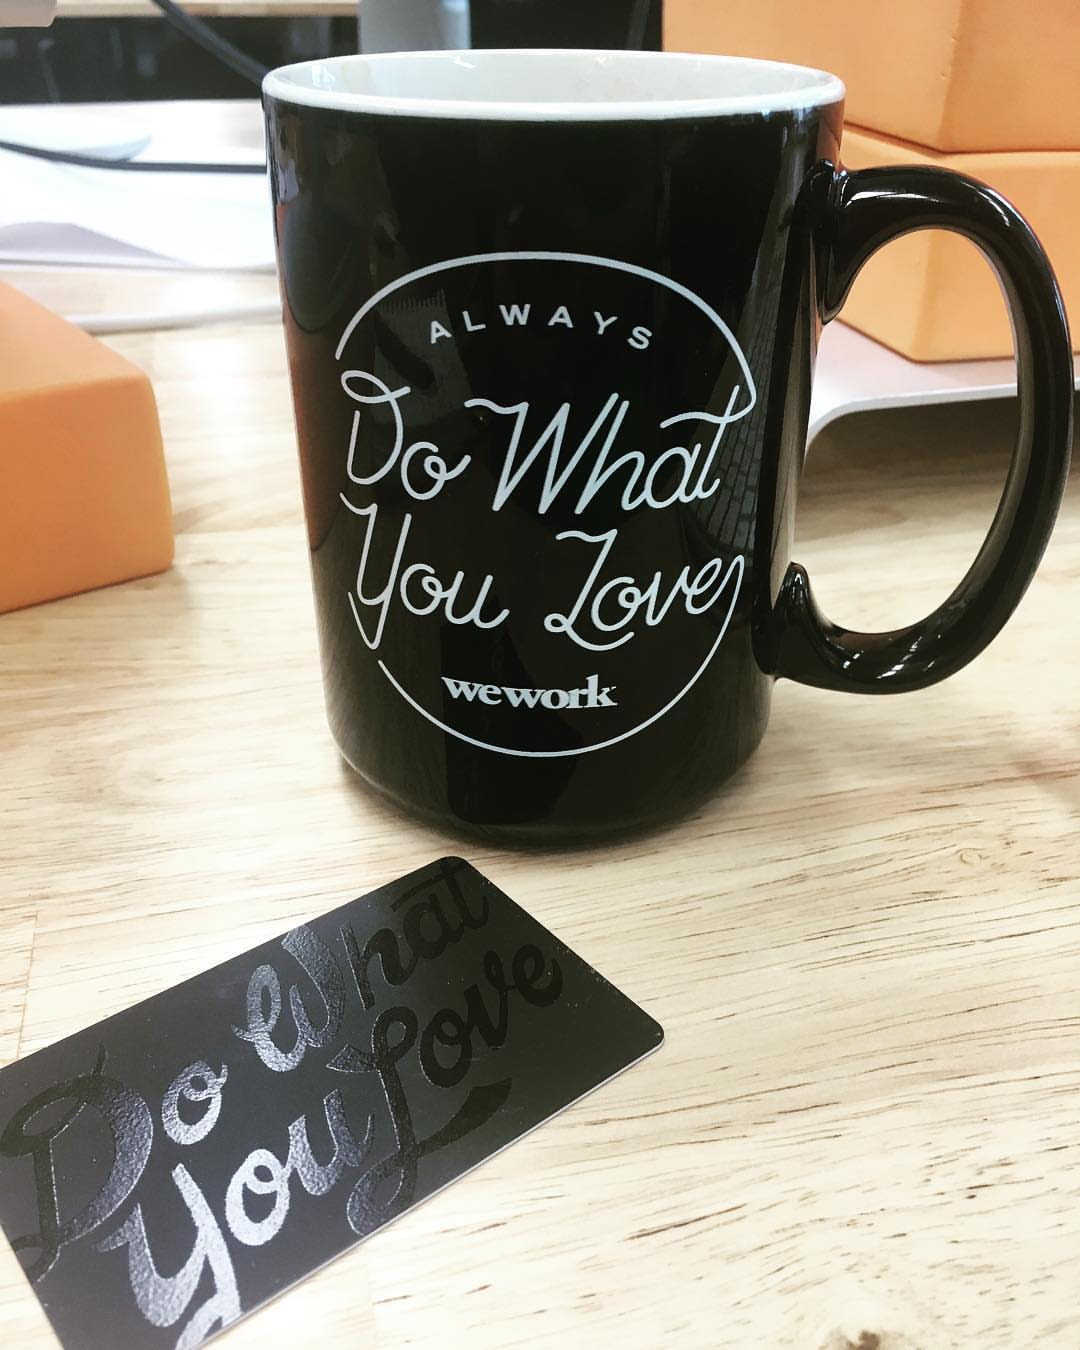wework: (434, 665, 624, 715)
